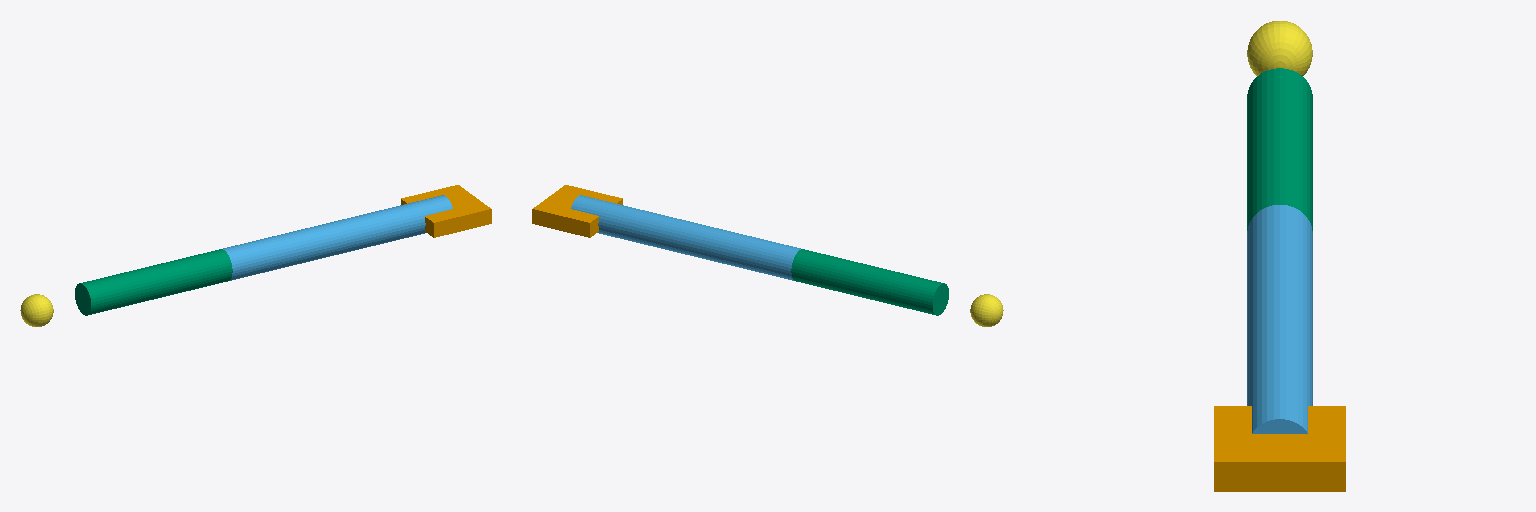
The robot description file, URDF, robot "michael":
<?xml version="1.0"?>
<robot name="michael">

    <link name="base_link">
        <visual>
            <geometry>
                <box size="0.2 0.2 0.05"/>
            </geometry>
            <origin xyz="0 0 0" rpy="0 0 0"/>
        </visual>
    </link>

    <link name="peroxisome">
        <visual>
            <geometry>
                <cylinder length="0.77" radius="0.05"/>
            </geometry>
            <origin xyz="0 0 0.385" rpy="0 0 0"/>
        </visual>
    </link>

    <link name="autophagosome">
        <visual>
            <geometry>
                <cylinder length="0.49" radius="0.05"/>
            </geometry>
            <origin xyz="0 0 0.245" rpy="0 0 0"/>
        </visual>
    </link>

    <link name="end_effector">
        <visual>
            <geometry>
                <sphere radius="0.05"/>
            </geometry>
            <origin xyz="0 0 0.16" rpy="0 0 0"/>
        </visual>
    </link>

    <!-- 定义关节 -->
    <joint name="joint1_revolute" type="revolute">
        <parent link="base_link"/>
        <child link="peroxisome"/>
        <origin xyz="0 0 0" rpy="0 -1.57 0"/>
        <axis xyz="0 0 1"/>
        <limit lower="-1.5708" upper="1.5708" effort="30" velocity="1"/>
    </joint>

    <joint name="joint2_revolute" type="revolute">
        <parent link="peroxisome"/>
        <child link="autophagosome"/>
        <origin xyz="0 0 0.77" rpy="0 0 0"/>
        <axis xyz="0 0 1"/>
        <limit lower="-1.5708" upper="1.5708" effort="30" velocity="1"/>
    </joint>

    <joint name="joint3_fixed" type="fixed">
        <parent link="autophagosome"/>
        <child link="end_effector"/>
        <origin xyz="0 0 0.49" rpy="0 0 0"/>
    </joint>

</robot>

--- Render facts (derived) ---
The picture shows the robot from 3 angles, left to right: view 1: azimuth 30°, elevation 25°; view 2: azimuth 150°, elevation 25°; view 3: azimuth 270°, elevation 25°; orthographic projection.
Robot: michael — 4 links, 3 joints (2 revolute, 1 fixed); root link base_link; default pose: every joint at zero.
Links seen in each view (by area): view 1: peroxisome, autophagosome, base_link, end_effector; view 2: peroxisome, autophagosome, base_link, end_effector; view 3: peroxisome, base_link, autophagosome, end_effector.
Link boxes in pixels (x1,y1,x2,y2): peroxisome: (223,195,452,280); autophagosome: (75,249,232,315); base_link: (401,185,491,237); end_effector: (20,294,53,326); peroxisome: (571,195,800,280); autophagosome: (791,249,948,315); base_link: (532,185,622,237); end_effector: (970,294,1003,326); peroxisome: (1247,205,1312,433); base_link: (1214,406,1345,491); autophagosome: (1247,68,1312,230); end_effector: (1247,21,1312,75).
Size in the robot's own frame: 1.57 by 0.2 by 0.1011 metres.
Geometry: primitives only (box / cylinder / sphere), no mesh files.
